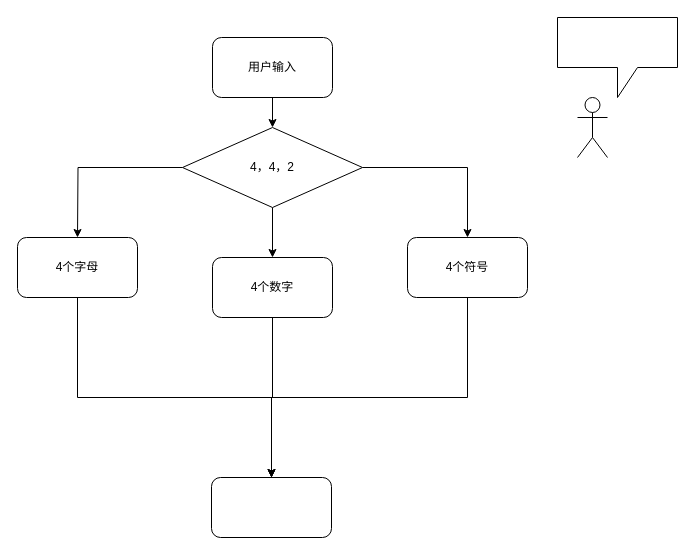
This 695x555 diagram has some shape labels left out. Here are the shapes that lost their labels. From the top down, the centre of each, then its label:
At (617,57): "fuck，我不知道啊".
At (592,127): "Actor".
At (271,507): "合并输出".
